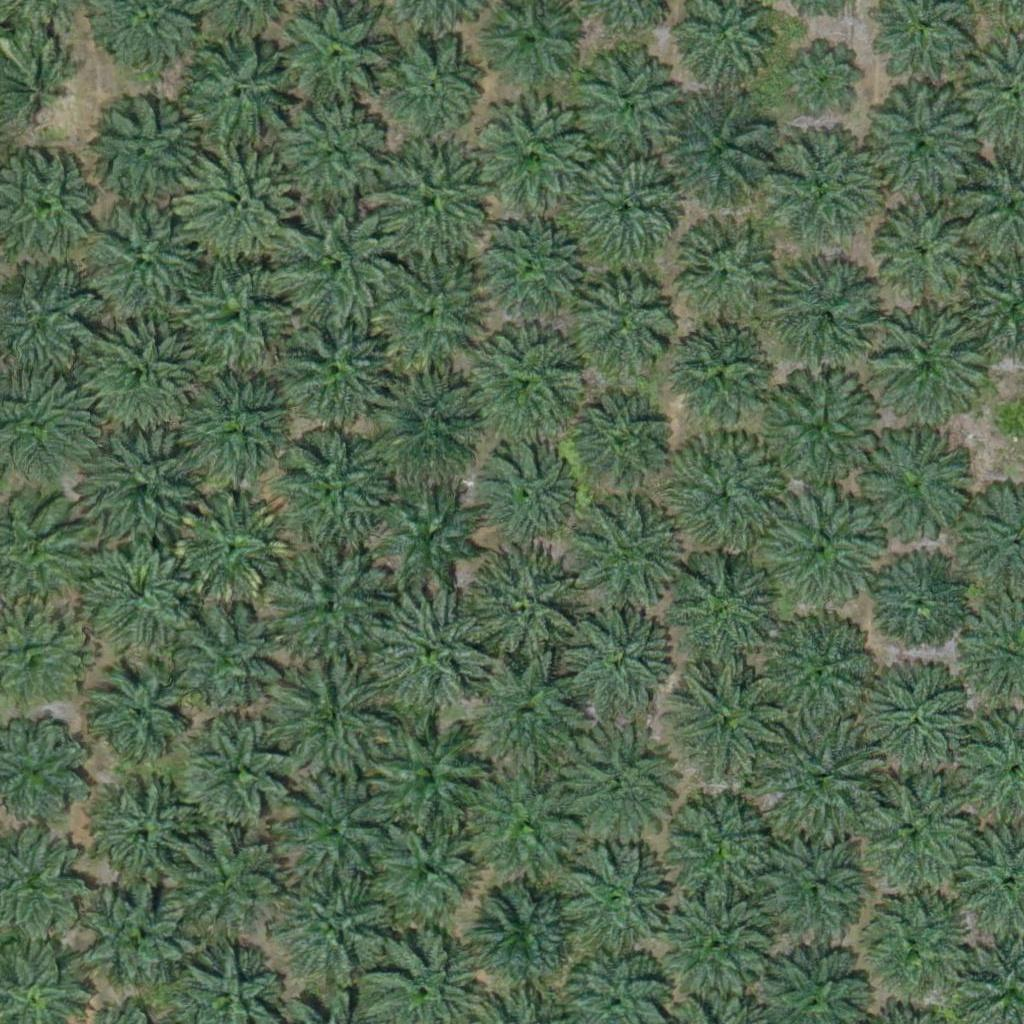Kelapa_Sawit: (82, 93, 207, 219), (191, 148, 316, 274), (175, 26, 300, 152), (475, 95, 600, 221), (760, 128, 885, 254), (861, 85, 986, 211), (757, 611, 882, 737), (664, 430, 789, 556), (663, 552, 788, 678), (663, 664, 788, 790), (470, 206, 595, 332), (458, 543, 583, 669), (466, 654, 591, 780), (362, 589, 487, 715), (366, 359, 491, 485), (362, 252, 487, 378), (369, 144, 494, 270), (274, 202, 399, 328), (270, 305, 395, 431), (270, 424, 395, 550), (268, 544, 393, 670), (258, 659, 383, 785), (274, 767, 399, 893), (272, 861, 397, 987), (364, 706, 489, 832), (368, 805, 493, 931), (456, 761, 581, 887), (550, 843, 675, 969), (553, 720, 678, 846), (660, 883, 785, 1009), (841, 773, 966, 899), (652, 94, 777, 219), (755, 483, 880, 608), (757, 366, 882, 491), (564, 146, 689, 271), (660, 789, 785, 914), (846, 884, 971, 1009), (182, 260, 295, 374), (182, 368, 295, 482), (282, 97, 395, 210), (565, 274, 678, 387), (89, 781, 202, 894), (74, 877, 187, 990), (471, 881, 584, 994), (756, 833, 869, 946), (769, 718, 882, 831), (85, 320, 197, 434), (89, 209, 201, 323), (168, 828, 280, 942), (861, 422, 973, 535), (871, 668, 983, 781), (767, 261, 879, 374), (669, 216, 781, 329), (557, 604, 669, 717), (573, 498, 685, 611), (470, 333, 582, 446), (176, 490, 288, 603), (175, 606, 287, 719), (82, 659, 194, 772), (82, 535, 194, 648), (89, 433, 201, 546), (183, 715, 295, 828), (379, 37, 479, 138), (871, 199, 971, 300), (878, 317, 978, 418), (871, 554, 971, 655), (669, 326, 769, 427), (573, 392, 673, 493), (478, 442, 578, 543), (380, 483, 480, 583), (579, 50, 678, 151), (789, 38, 864, 113)
